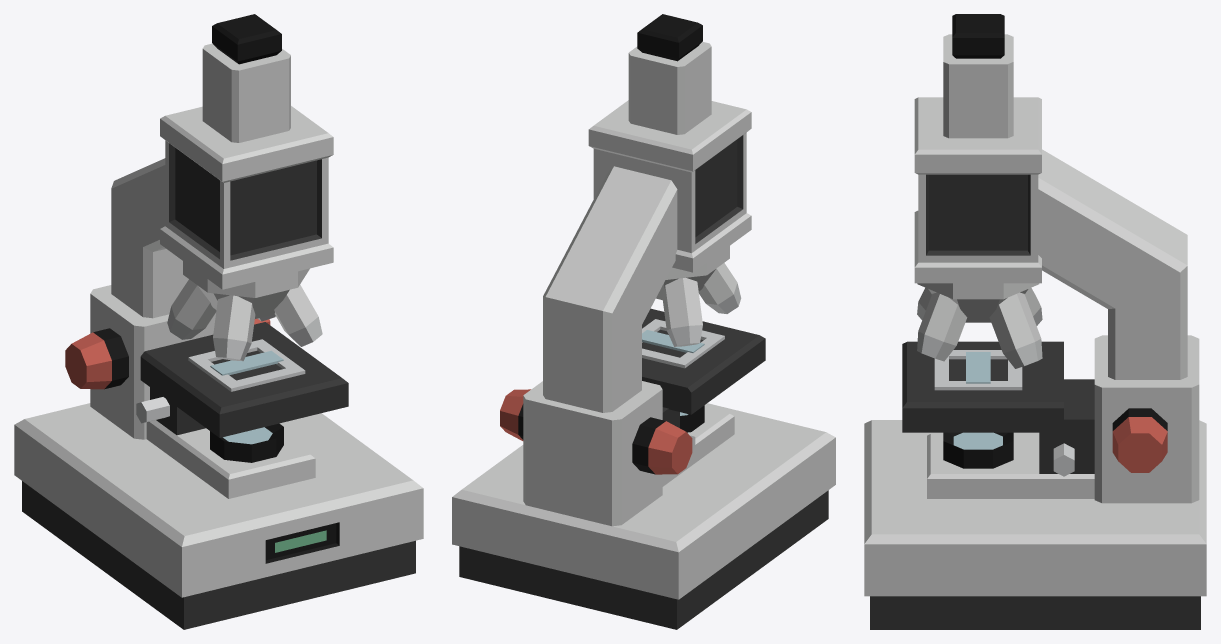
File: research-microscope-77ce04.glb
3 renders of one model, left to right at view 1: azimuth 30°, elevation 25°; view 2: azimuth 150°, elevation 25°; view 3: azimuth 270°, elevation 25°, orthographic. The views are drawn at different scales.
Parts seen in each view (by area): view 1: research-microscope, stage, nosepiece, slide; view 2: research-microscope, stage, nosepiece, slide; view 3: research-microscope, stage, nosepiece, slide.
Part boxes in pixels (x1,y1,x2,y2): research-microscope: (14, 14, 423, 629); stage: (136, 322, 348, 437); nosepiece: (167, 261, 322, 361); slide: (210, 350, 283, 375); research-microscope: (452, 14, 835, 629); stage: (642, 308, 765, 451); nosepiece: (656, 246, 741, 346); slide: (642, 330, 704, 352); research-microscope: (864, 14, 1206, 629); stage: (902, 341, 1094, 476); nosepiece: (917, 283, 1042, 368); slide: (966, 352, 990, 383).
Bounding box in the file's own units: 0.3 × 0.636 × 0.36.
